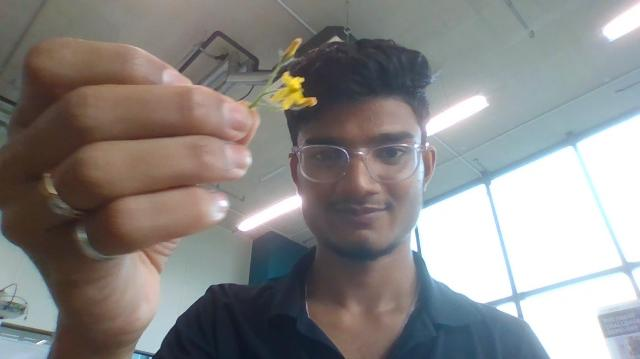Anthesis: (268, 73, 317, 113), (271, 83, 298, 103), (281, 38, 302, 62)
